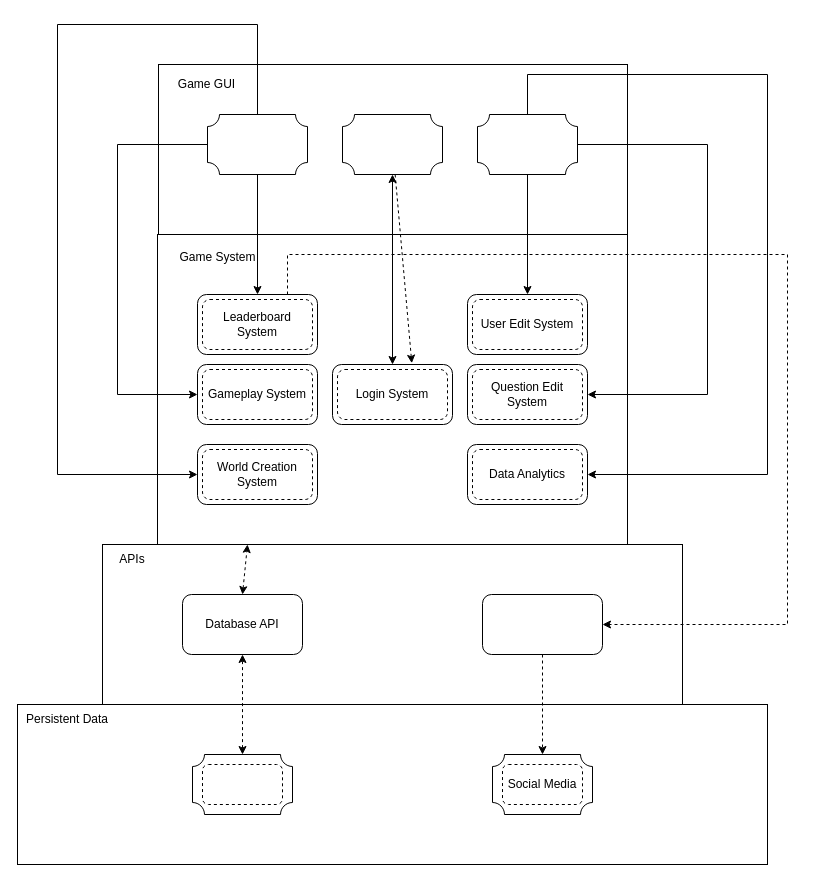
Some shapes in this 813 by 882 pixel diagram are drawn without their labels. Here are the shapes that lost their labels. From the top down, the centre of each, then its label:
At (x=257, y=144): "Student GUI".
At (x=392, y=144): "Login GUI".
At (x=527, y=144): "Admin GUI".
At (x=542, y=624): "Social Media API".
At (x=242, y=784): "Databases".
